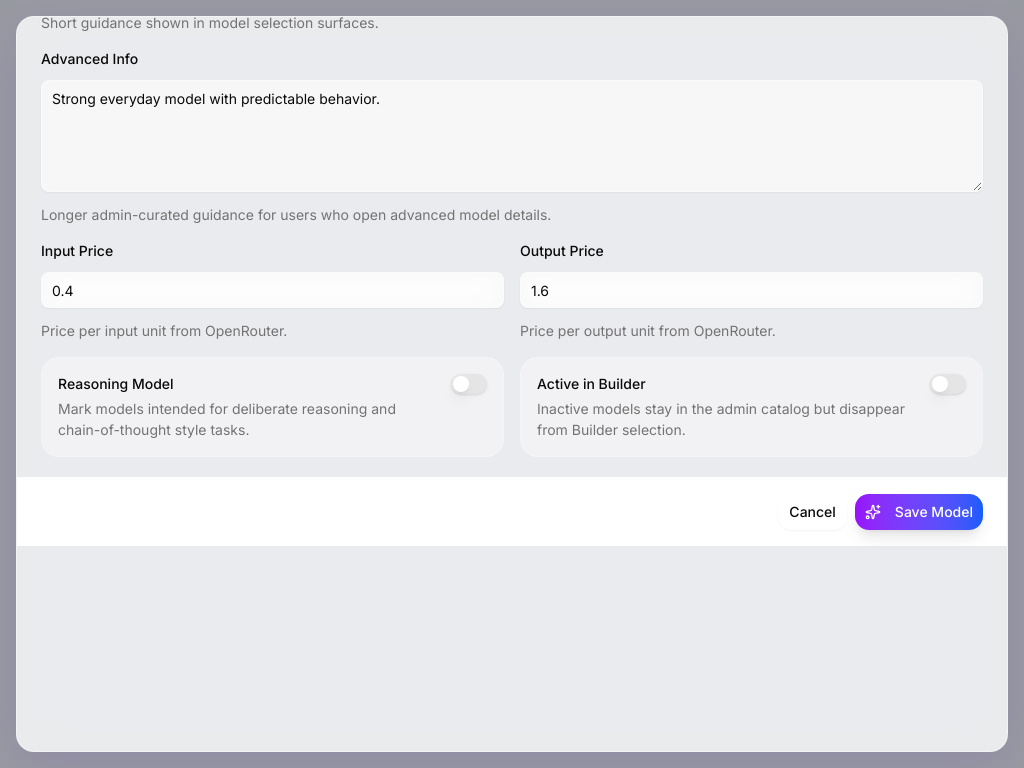
it: ModelEditor › updates current state when toggling live form values in edit mode
The image size is (1024, 768).
(page scrolled)
Click the switch named "reasoning model" in the row of "Reasoning Model" at (469, 384), box [451,374,487,394]
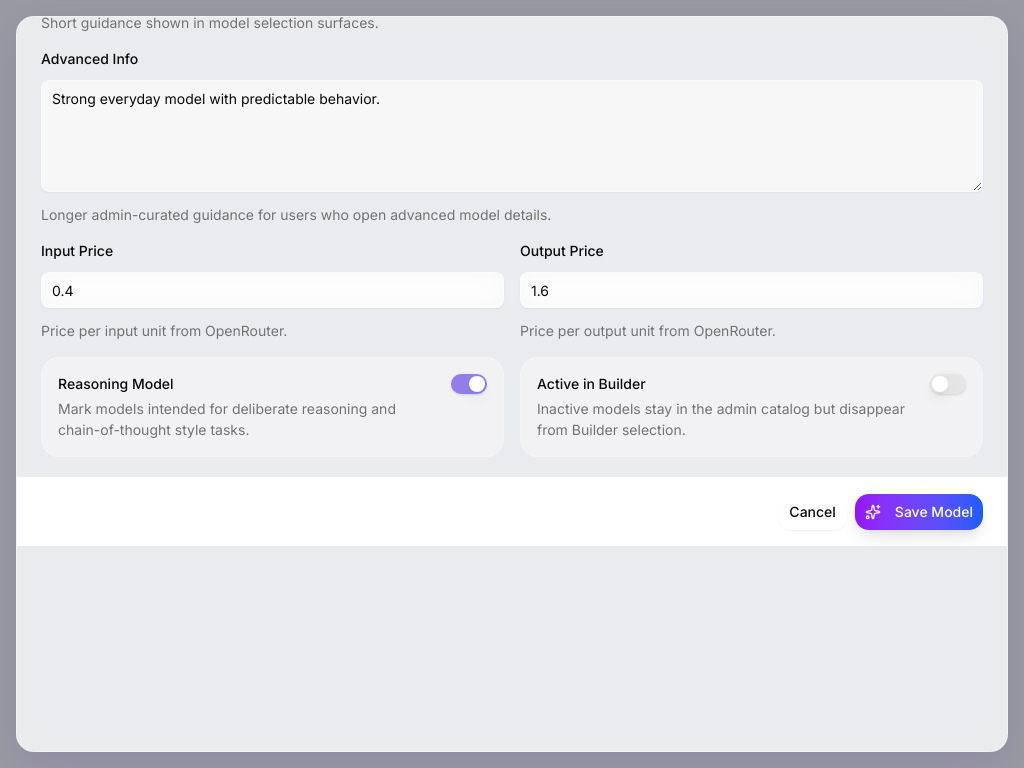
Click the switch named "active in builder" in the row of "Active in Builder" at (948, 384), box [930,374,966,394]
(page scrolled)
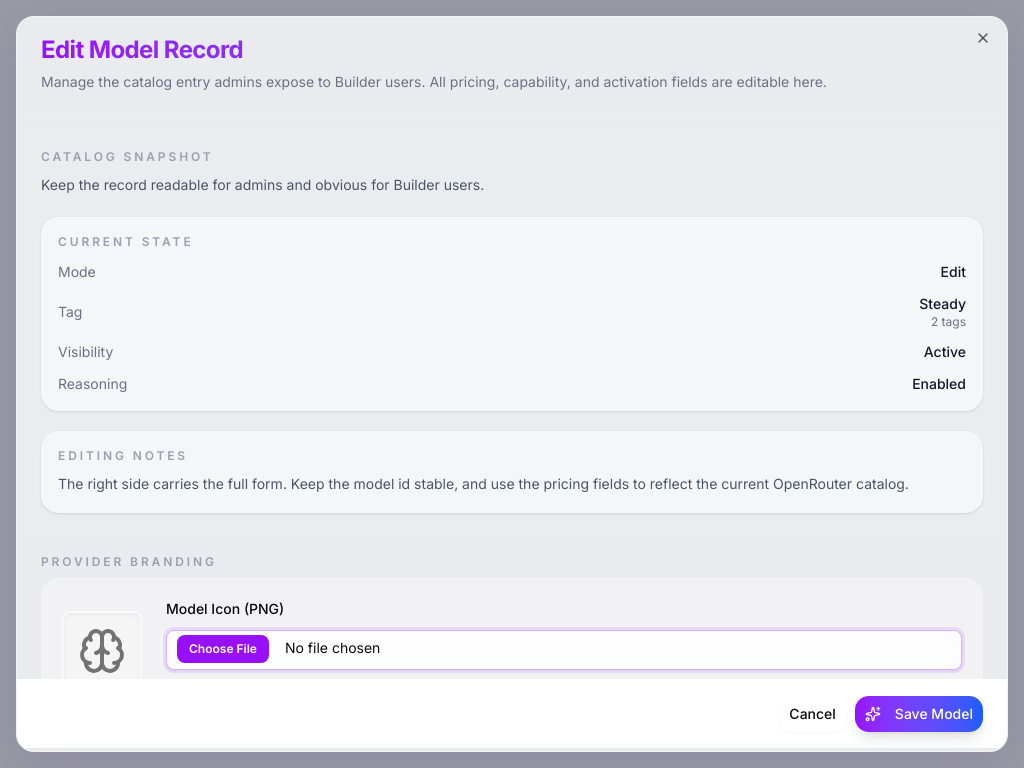
Check: the text "Active" is shown, box [924,342,966,362]
Check: the text "Enabled" is shown, box [912,374,966,394]
